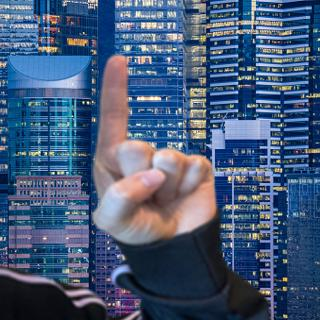IRRITATED: (86, 51, 221, 252)
